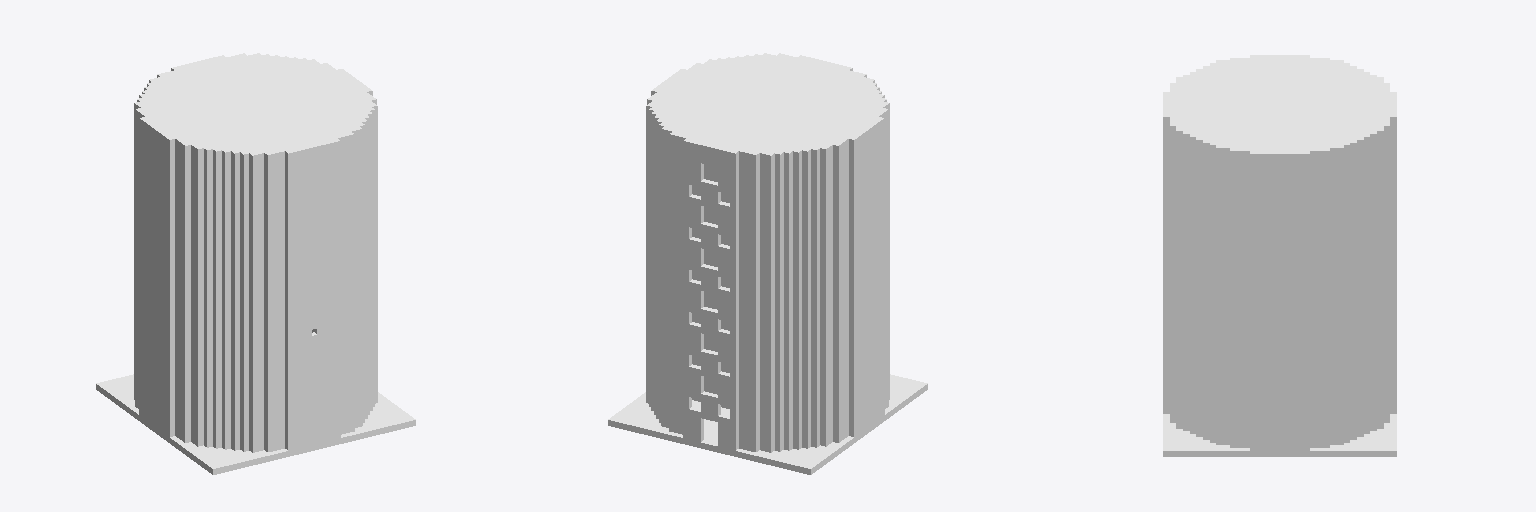
The model's file is bill_E.obj.
The picture shows the model from 3 angles: view 1: azimuth 30°, elevation 25°; view 2: azimuth 150°, elevation 25°; view 3: azimuth 270°, elevation 25°; orthographic projection.
Size of the model in its own units: 35 by 50 by 35.